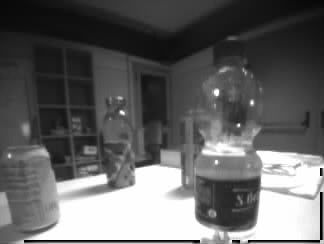Bottle: (193, 51, 262, 244), (99, 95, 138, 188)
Tin can: (1, 142, 60, 233)
